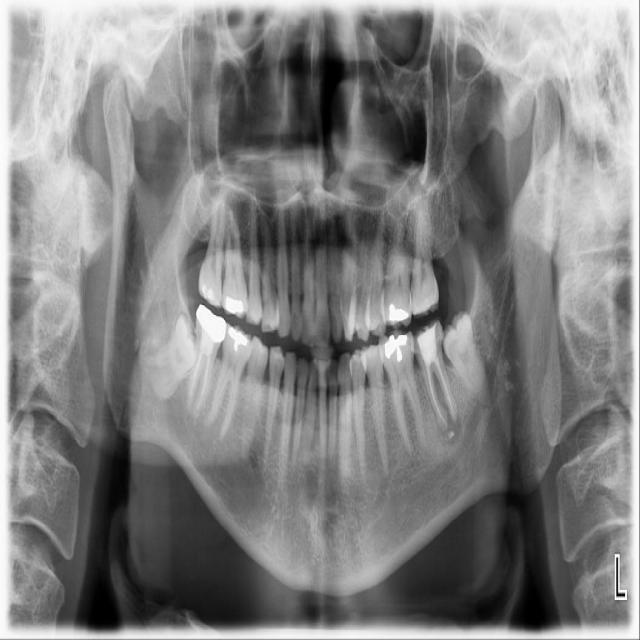52: (181, 301, 234, 356), (400, 316, 454, 367), (374, 325, 422, 379), (215, 322, 256, 375), (380, 281, 412, 330), (221, 270, 248, 318), (198, 257, 222, 308)
73: (416, 351, 460, 431), (181, 342, 218, 417), (586, 568, 592, 582)
BioHorizons Implant: (410, 182, 439, 318)
Biomet 3i Implant: (434, 308, 495, 415)
Blue Sky Bio Implant: (406, 319, 459, 433)
Caries: (198, 185, 227, 309)
Implant: (184, 302, 229, 417)
Keystone Dental Implant: (127, 311, 219, 407)
